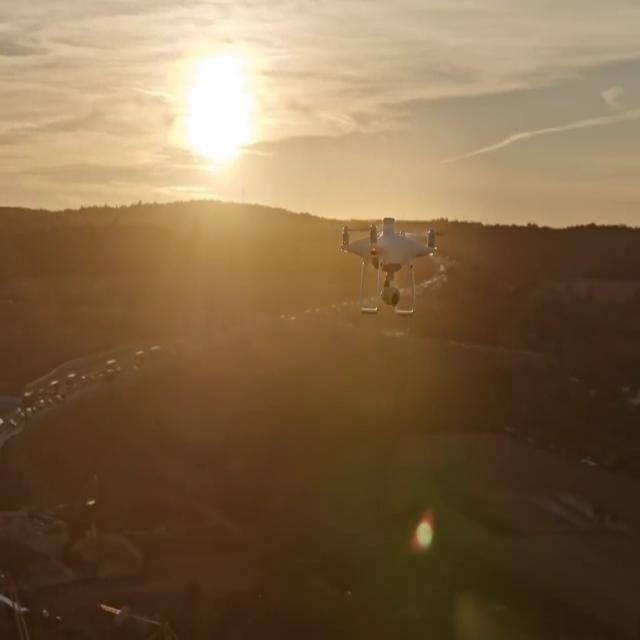drone: (330, 212, 450, 318)
